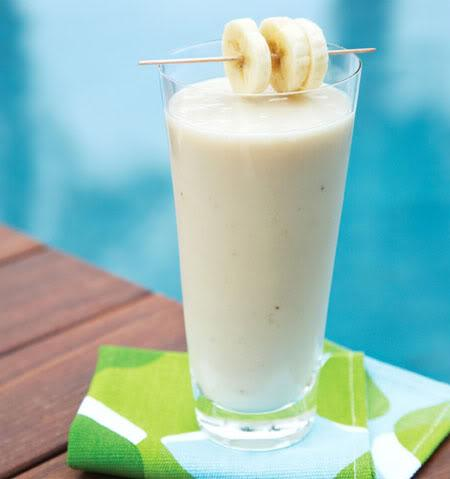produk_susu: (193, 93, 316, 392)
